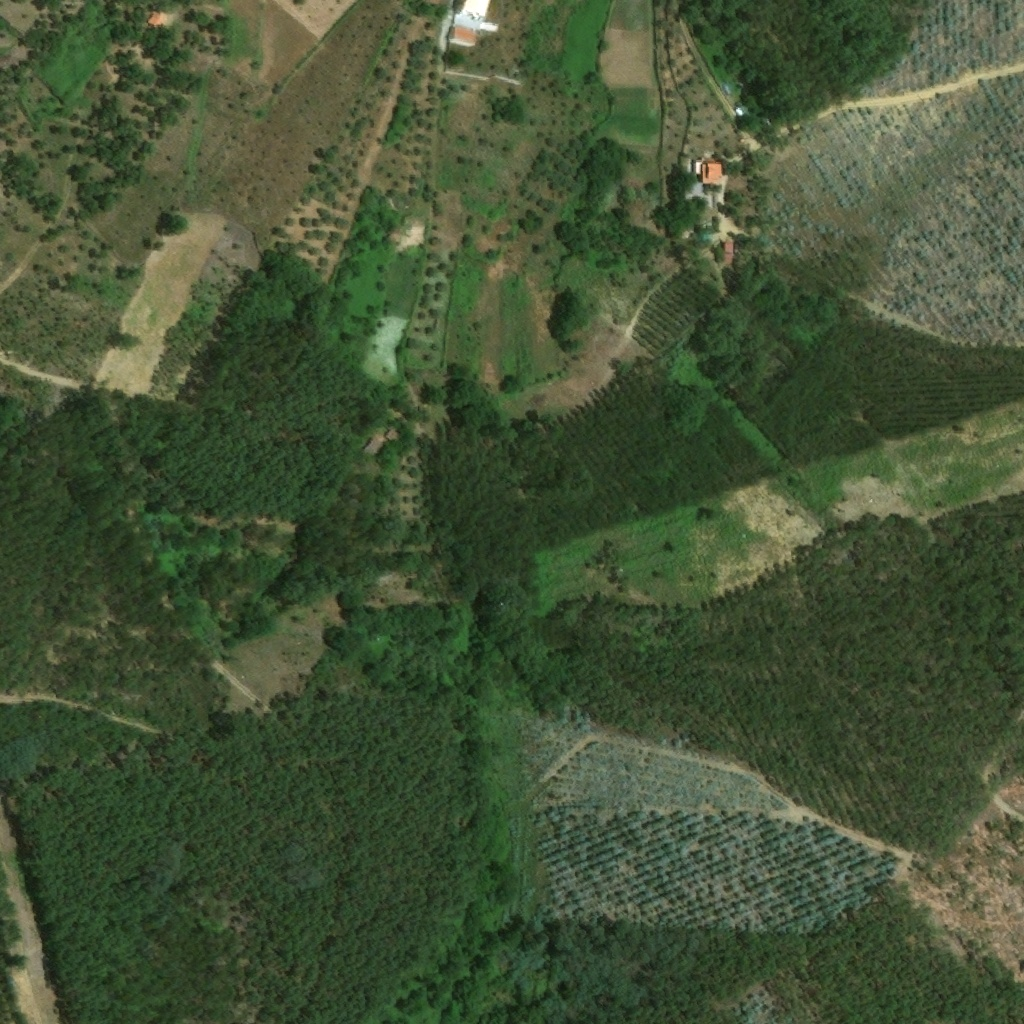0 no-damage: (692, 151, 730, 186), (452, 14, 498, 33), (447, 28, 478, 46), (146, 11, 164, 30), (722, 243, 735, 265), (724, 91, 737, 106)
4 un-classified: (464, 0, 491, 18), (422, 0, 446, 7)
